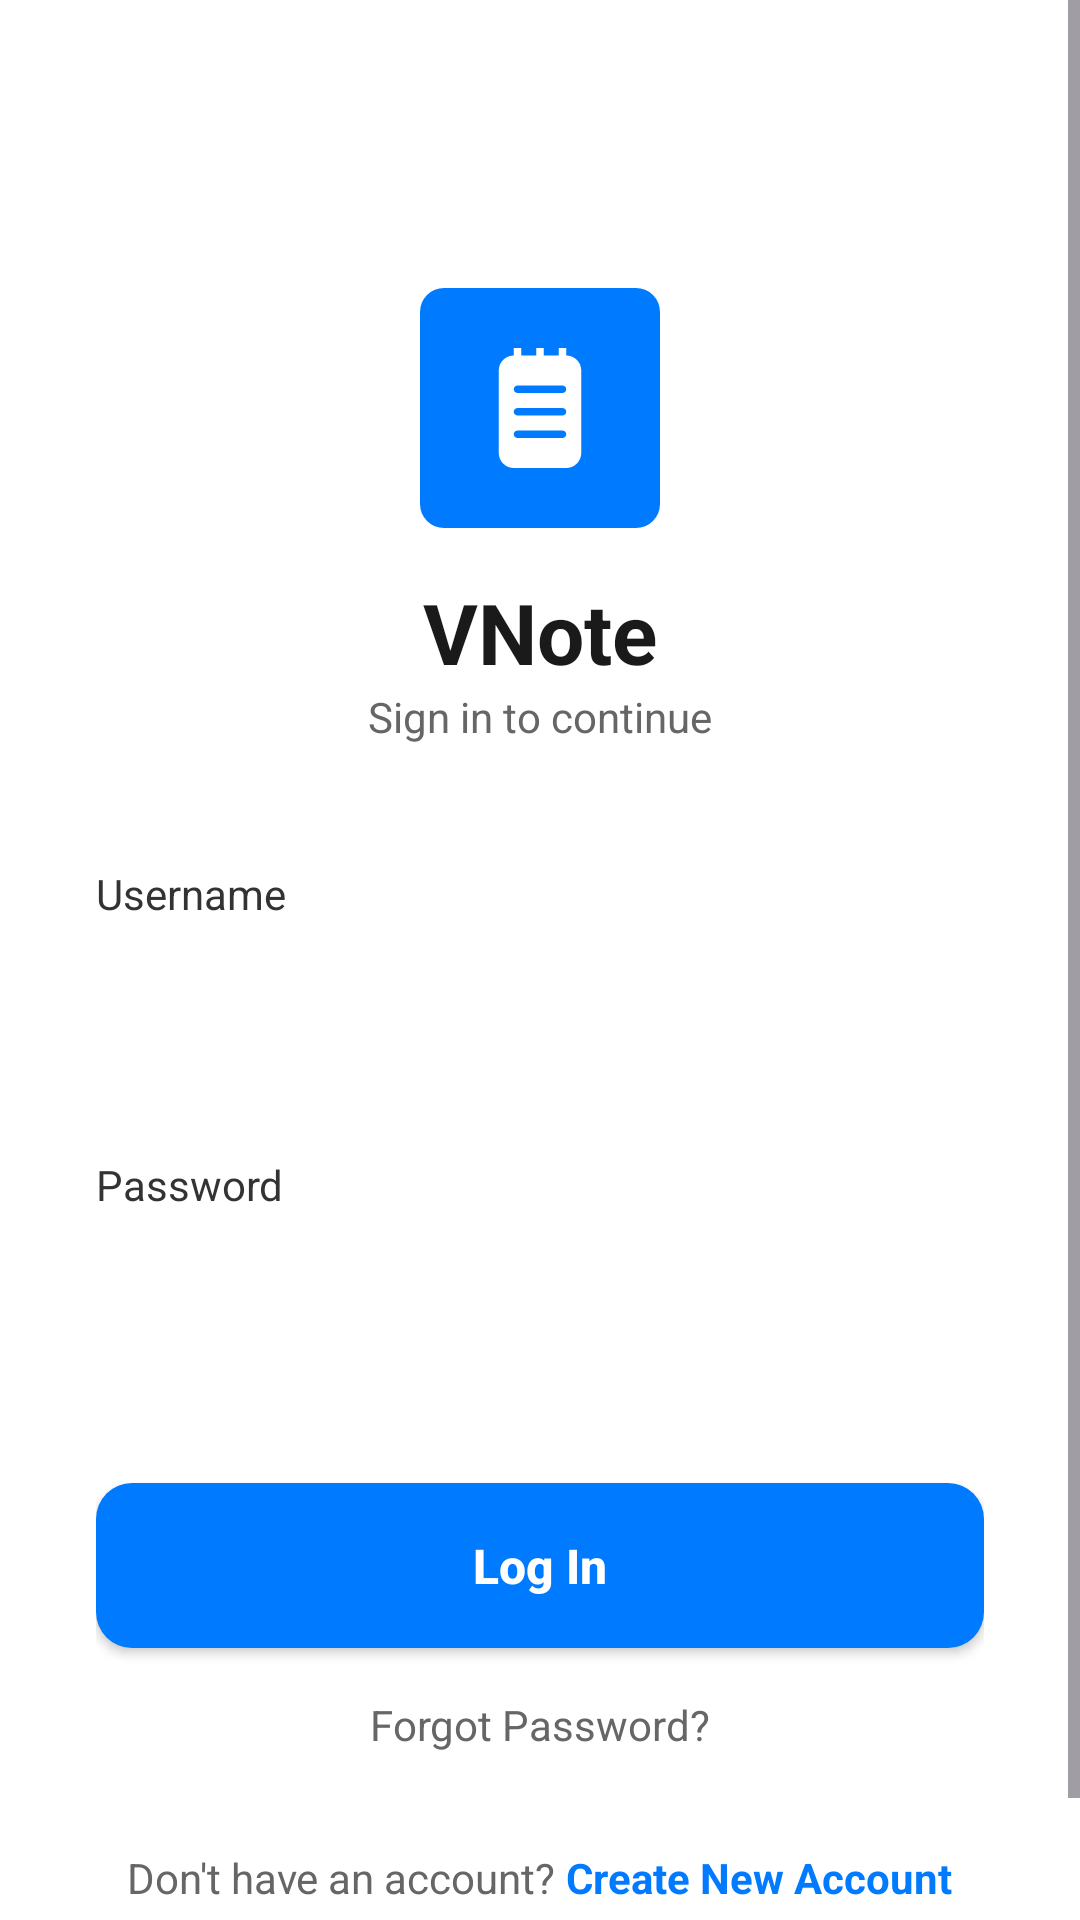

Where icons sit on this 1080x1920 app screen, as (x1, y1, x2, y2):
notes: (420, 288, 660, 528)
